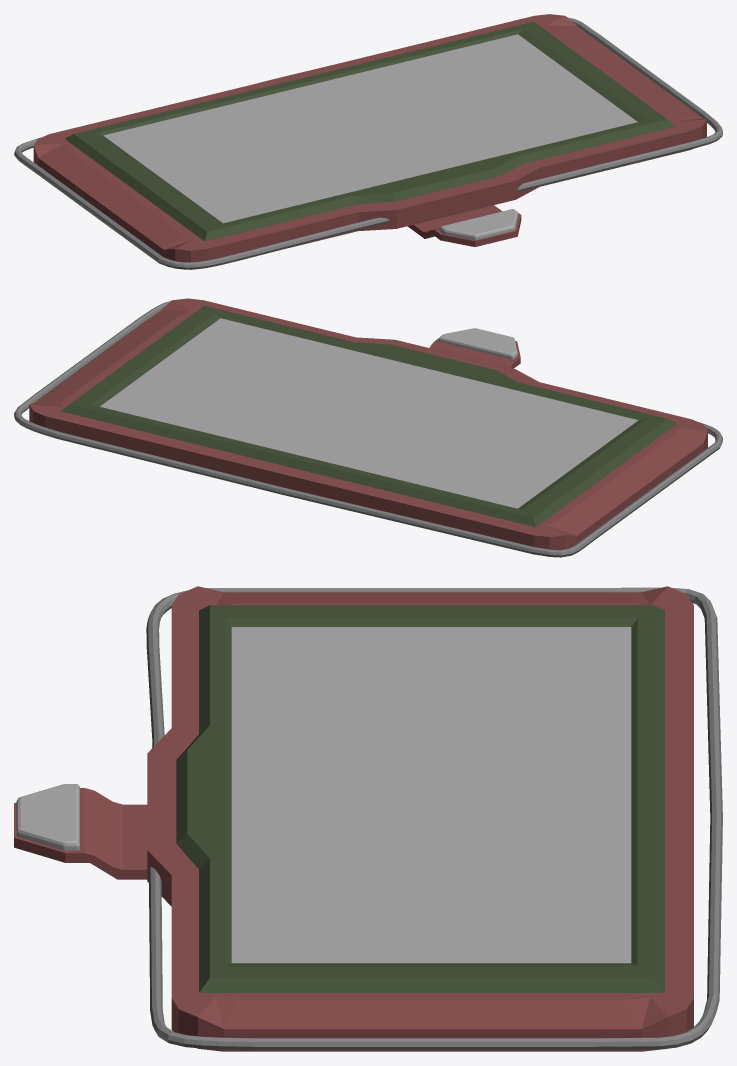
The model's file is monitor.fbx.
3 renders of one model, top to bottom at view 1: azimuth 30°, elevation 25°; view 2: azimuth 150°, elevation 25°; view 3: azimuth 270°, elevation 25°, orthographic. The views are drawn at different scales.
Visible parts, largest first — view 1: pCube7; view 2: pCube7; view 3: pCube7.
Part boxes in pixels (x1=…): pCube7: x1=14, y1=14, x2=722, y2=269; pCube7: x1=14, y1=298, x2=722, y2=557; pCube7: x1=14, y1=586, x2=722, y2=1051.
Size of the model in its own units: 155 by 8.78 by 102.
